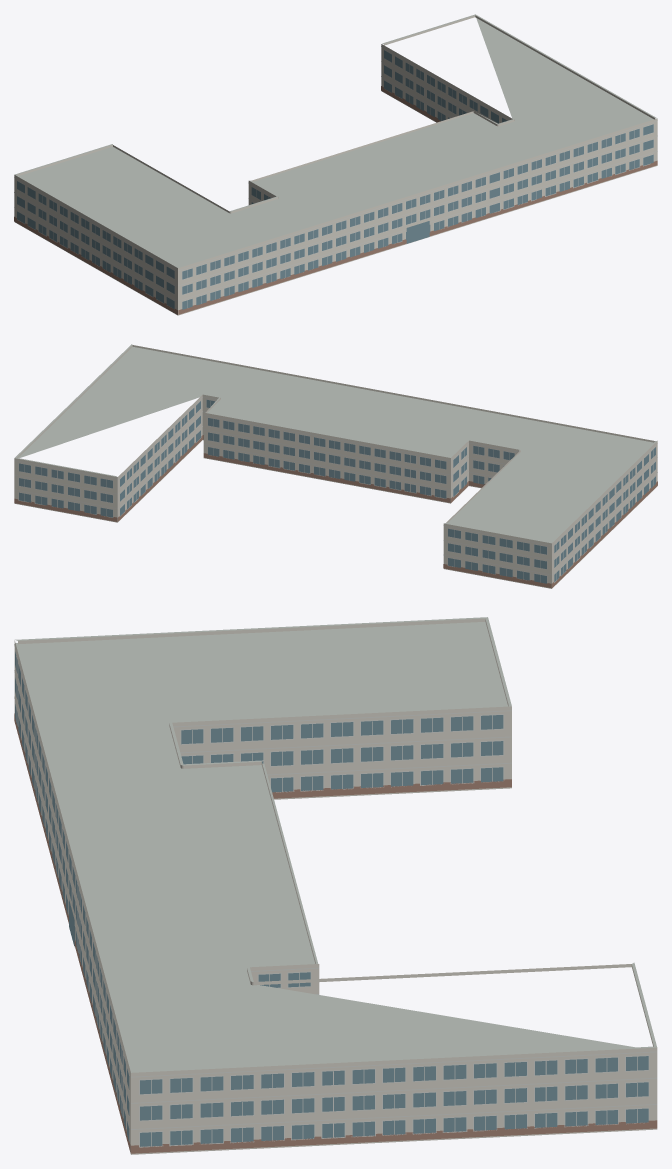
Rendered from public-dae7124f-3348-4fcb-9761-39a82ee5e820.glb.
3 renders of one model, top to bottom at view 1: azimuth 30°, elevation 25°; view 2: azimuth 150°, elevation 25°; view 3: azimuth 270°, elevation 25°, orthographic. The views are drawn at different scales.
Parts seen in each view (by area): view 1: public-dae7124f-3348-4fcb-9761-39a82ee5e820; view 2: public-dae7124f-3348-4fcb-9761-39a82ee5e820; view 3: public-dae7124f-3348-4fcb-9761-39a82ee5e820.
Part boxes in pixels (<box>): public-dae7124f-3348-4fcb-9761-39a82ee5e820: <box>14,14,657,315</box>; public-dae7124f-3348-4fcb-9761-39a82ee5e820: <box>14,344,657,588</box>; public-dae7124f-3348-4fcb-9761-39a82ee5e820: <box>14,617,657,1154</box>.
Size of the model in its own units: 109 by 9.15 by 65.14.
